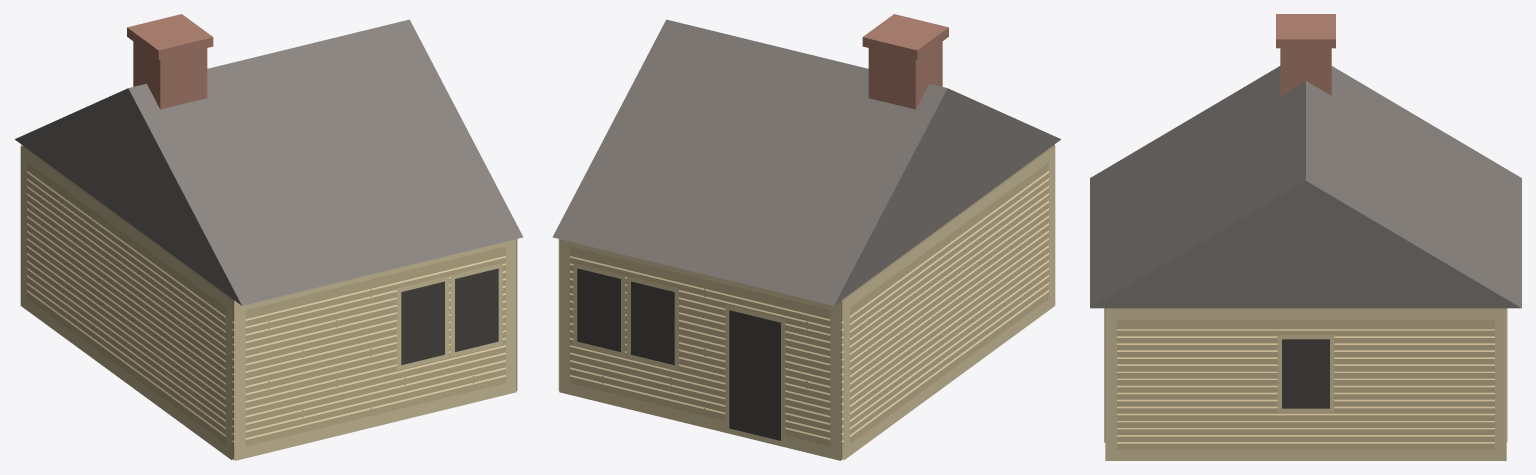
Rendered from recon_1835_north_d3_006__inferred_1835.glb.
The picture shows the model from 3 angles, left to right: view 1: azimuth 30°, elevation 25°; view 2: azimuth 150°, elevation 25°; view 3: azimuth 270°, elevation 25°; orthographic projection. The views are drawn at different scales.
Visible parts, largest first — view 1: recon_1835_north_d3_006__inferred_1835; view 2: recon_1835_north_d3_006__inferred_1835; view 3: recon_1835_north_d3_006__inferred_1835.
Boxes of the visible parts, box(x1,y1,x2,y2) form: recon_1835_north_d3_006__inferred_1835: box(15, 14, 522, 460); recon_1835_north_d3_006__inferred_1835: box(553, 14, 1060, 460); recon_1835_north_d3_006__inferred_1835: box(1090, 14, 1521, 460).
Bounding box in the file's own units: 5.11 × 5.81 × 7.05.
